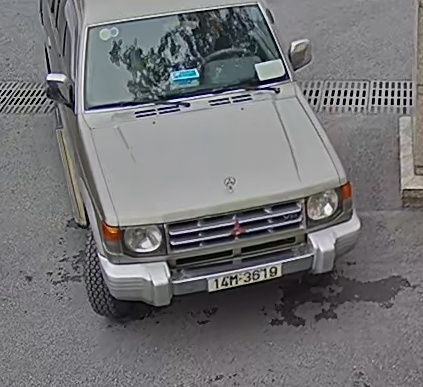vehicle plate: (204, 260, 283, 293)
